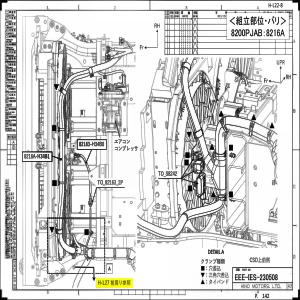PartNumber: (23, 153, 50, 159), (78, 141, 104, 147)
